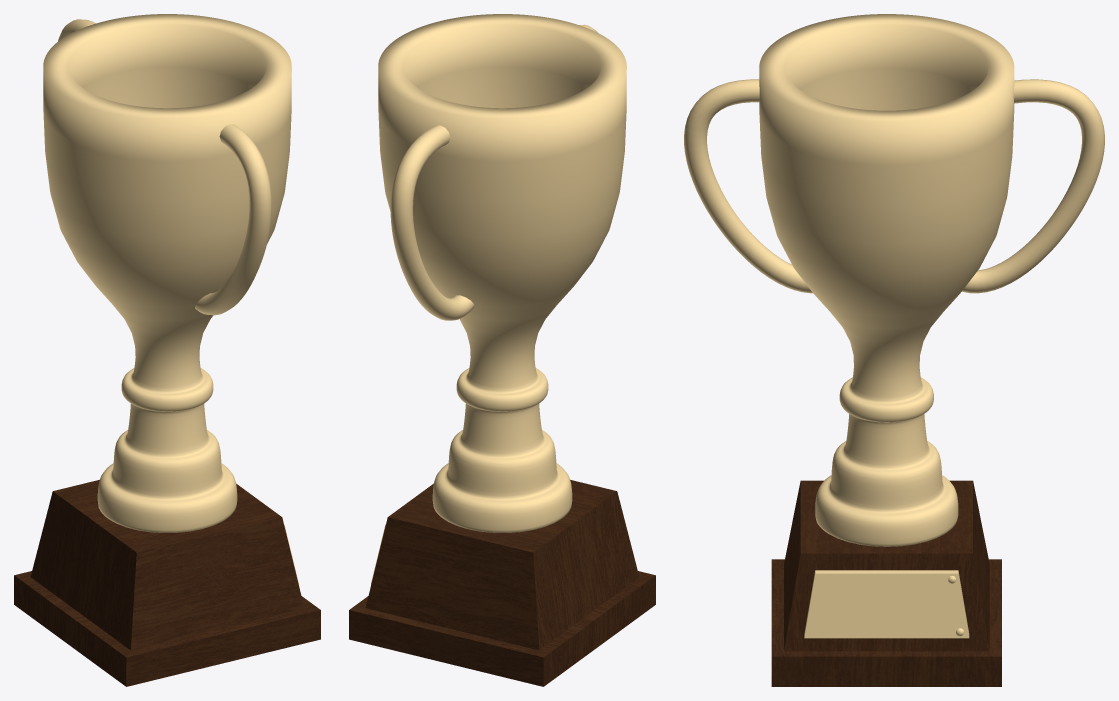
The model's file is trophy.glb.
The picture shows the model from 3 angles, left to right: view 1: azimuth 30°, elevation 25°; view 2: azimuth 150°, elevation 25°; view 3: azimuth 270°, elevation 25°; orthographic projection. The views are drawn at different scales.
Visible parts, largest first — view 1: 円, 平面, ベジエカーブ; view 2: 円, 平面, ベジエカーブ; view 3: 円, 平面, ベジエカーブ.
Part boxes in pixels (bbox=[...]): 円: bbox=[43, 14, 291, 532]; 平面: bbox=[14, 479, 320, 686]; ベジエカーブ: bbox=[58, 19, 271, 315]; 円: bbox=[378, 14, 626, 532]; 平面: bbox=[349, 479, 655, 686]; ベジエカーブ: bbox=[390, 24, 597, 320]; 円: bbox=[759, 14, 1014, 546]; 平面: bbox=[771, 480, 1001, 686]; ベジエカーブ: bbox=[684, 79, 1104, 293].
Bounding box in the file's own units: 0.4872 × 1.2 × 0.8033.
2 materials, 1 textured.
